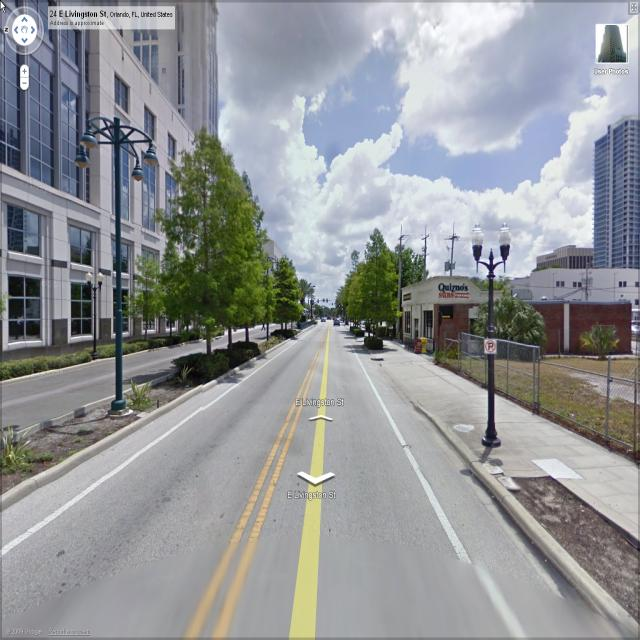b_1: (594, 124, 640, 269), (405, 274, 479, 352), (532, 240, 602, 278)
b_2: (0, 1, 264, 330), (474, 274, 632, 370)
